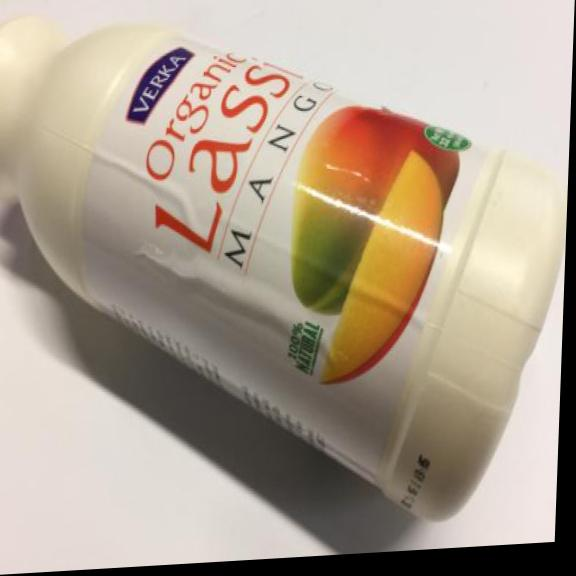Plastik: (0, 0, 576, 550)
